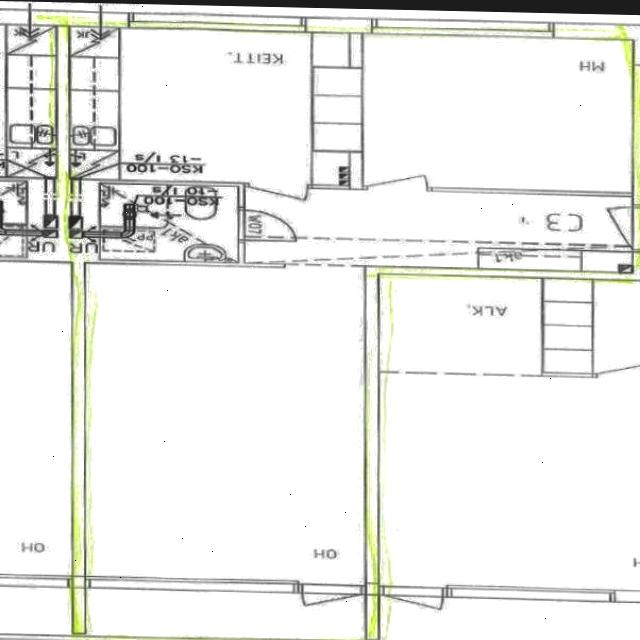room: (67, 26, 352, 184), (360, 33, 636, 192)
